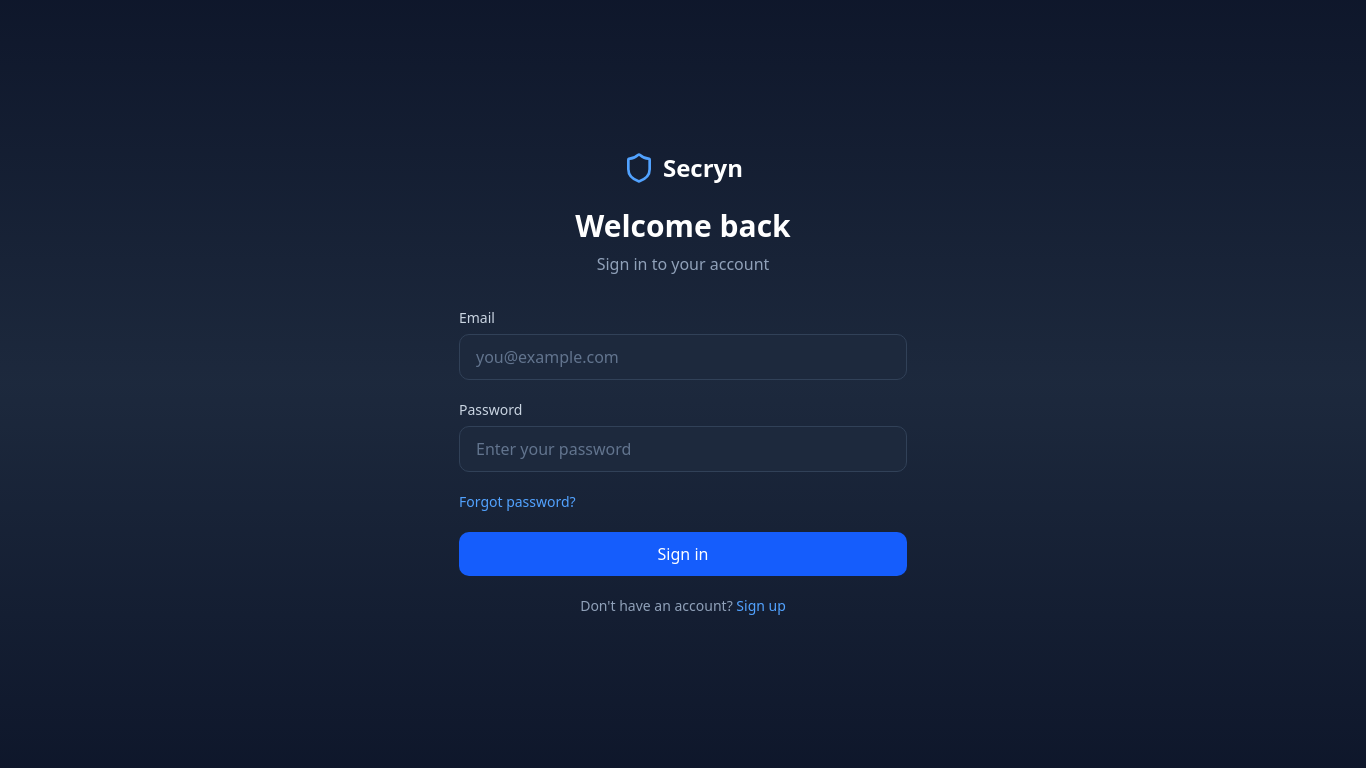
Test case: LoginPage › shows error on login failure
In the field labelled "Email": (683, 357) [459,334,907,380], type "bad@test.com"
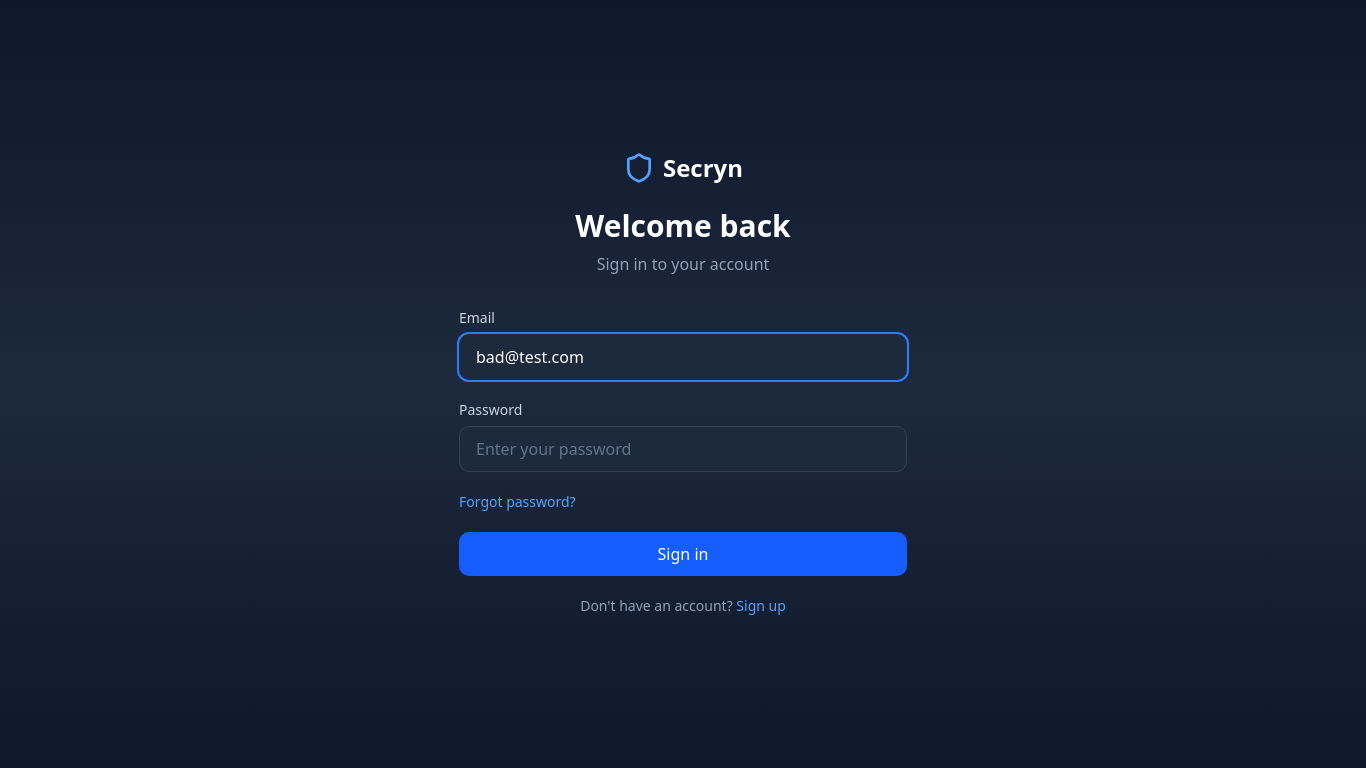
In the password field labelled "Password": (683, 449) [459,426,907,472], type "wrongpassword"
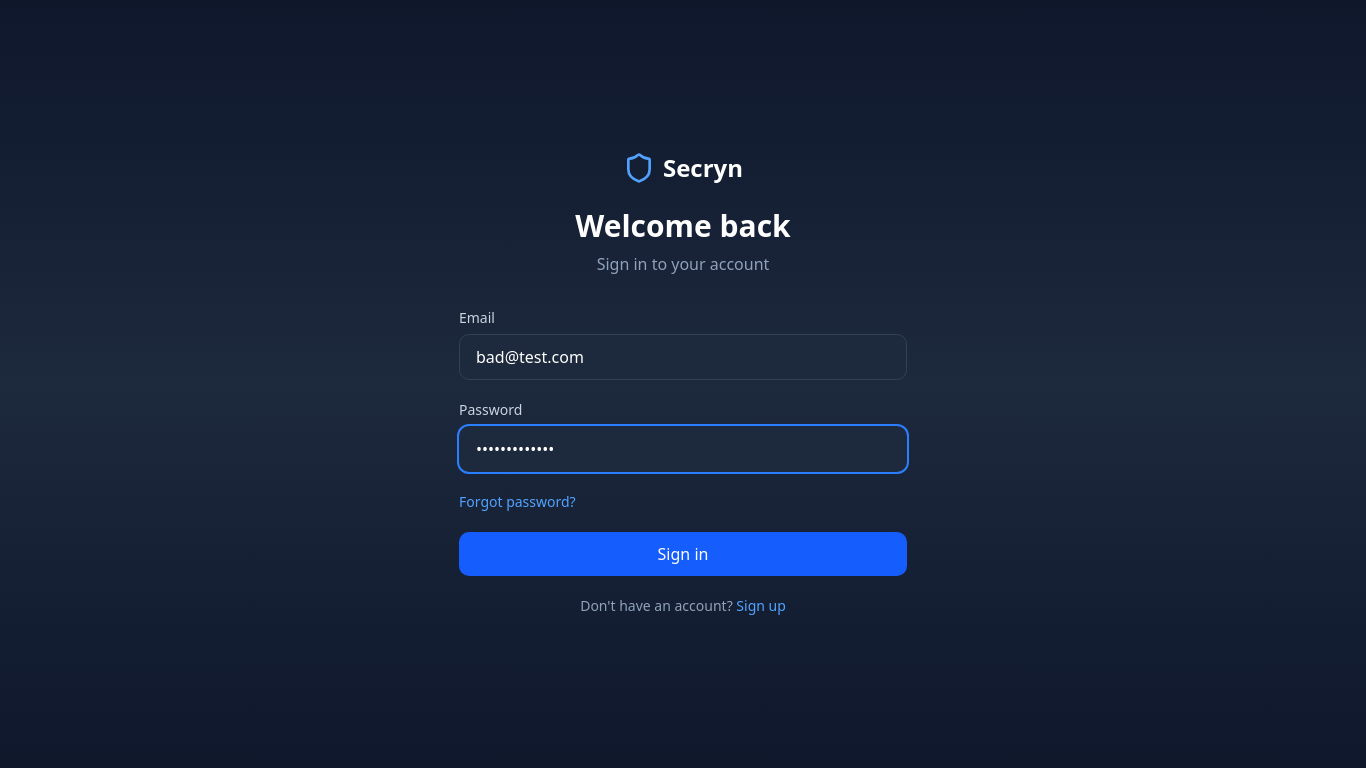
Click the button "Sign in": (683, 554) [459,532,907,576]
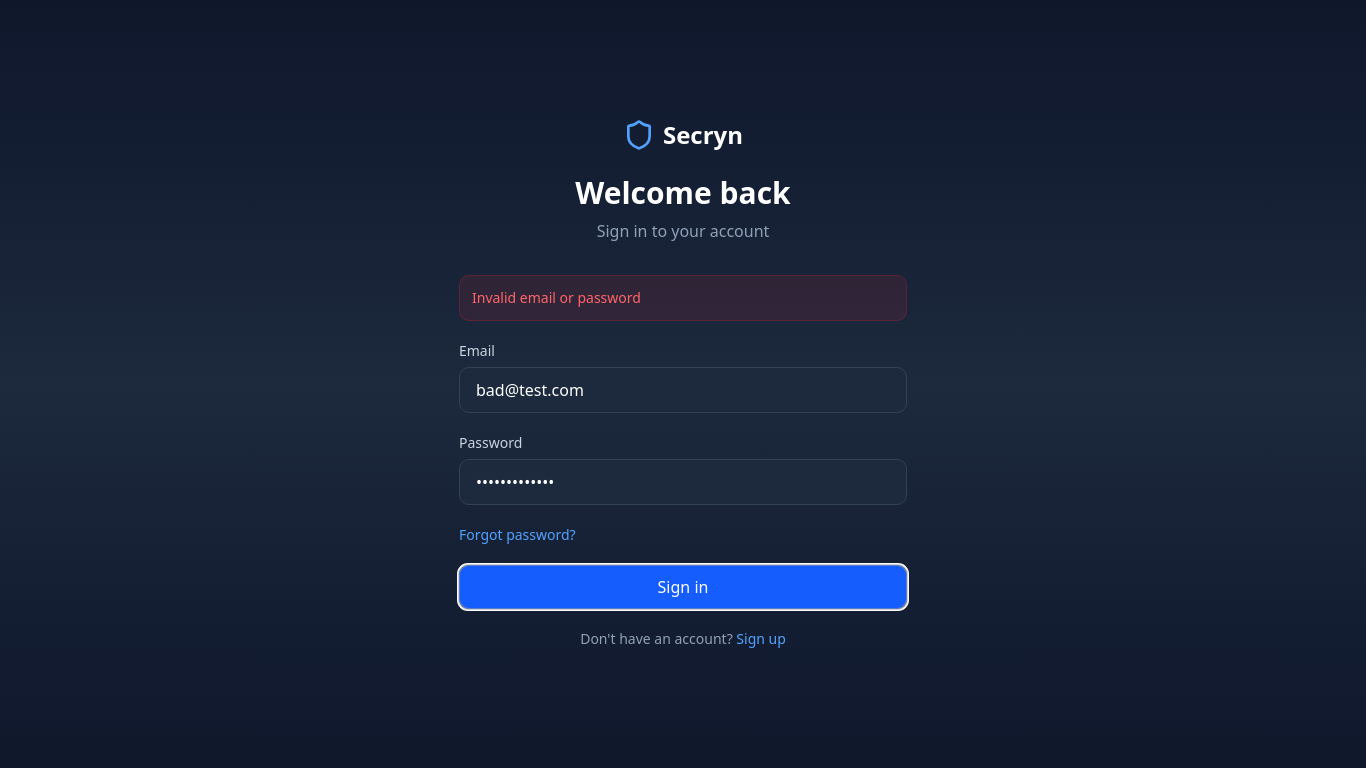
Check: the text "Invalid email or password" is shown, box [459,275,907,321]
